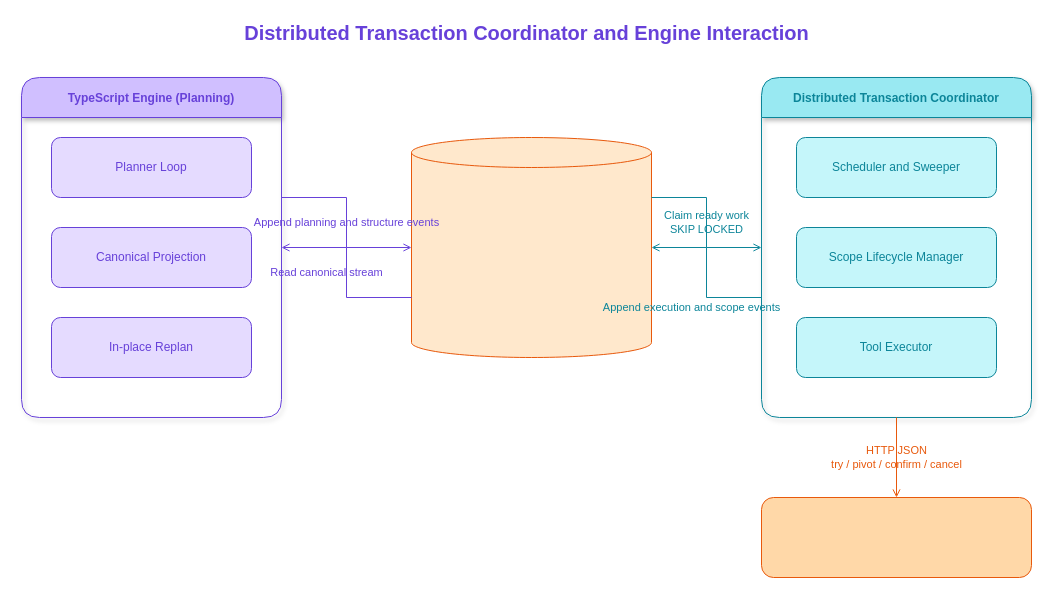
This 1055x595 diagram has some shape labels left out. The centre of each missing label's shape, as x and y in pixels:
"Business Adapter Services Inventory, Payment, Logistics" goes at [896,537].
"PostgreSQL Event Log and Synchronous Projections" goes at [531,247].
